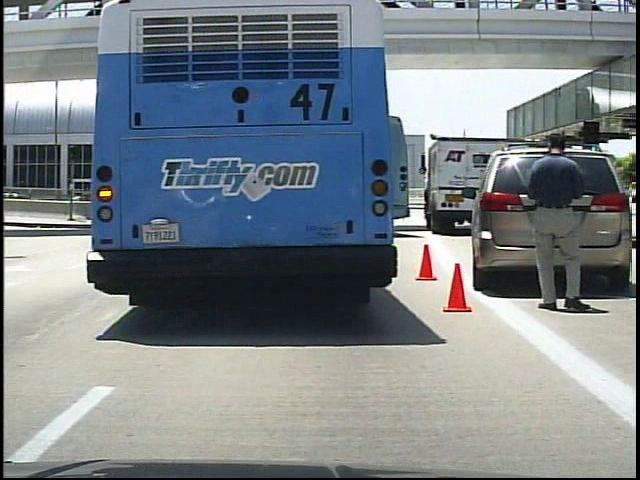person: (528, 128, 590, 313)
